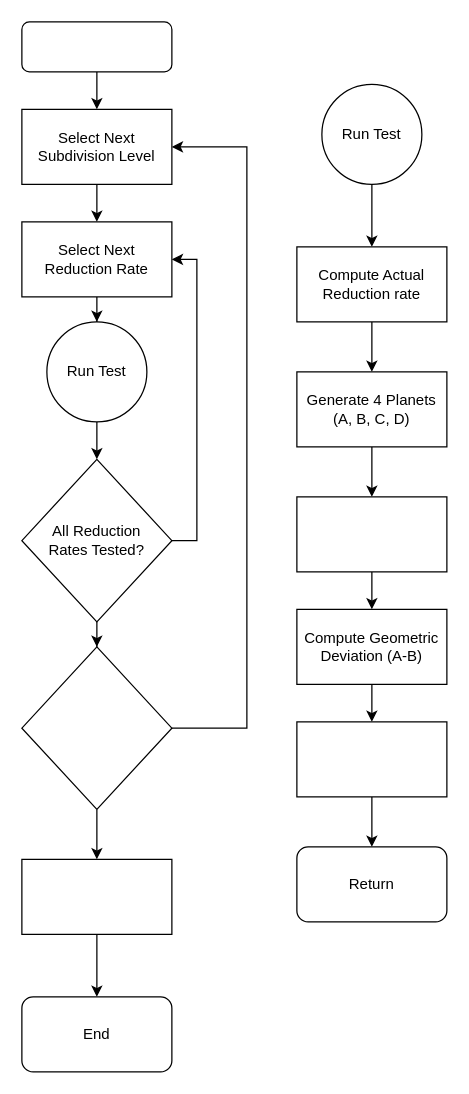
Some shapes in this 469 by 1094 pixel diagram are drawn without their labels. Each missing label, with the centre of its shape:
"All Subdivisions Tested?" belongs at pixel 96 727.
"Compute Geometric Deviation (C-D)" belongs at pixel 371 759.
"Export Data" belongs at pixel 96 896.
"Run QSlim on Plane D" belongs at pixel 371 534.
"Start" belongs at pixel 96 46.
